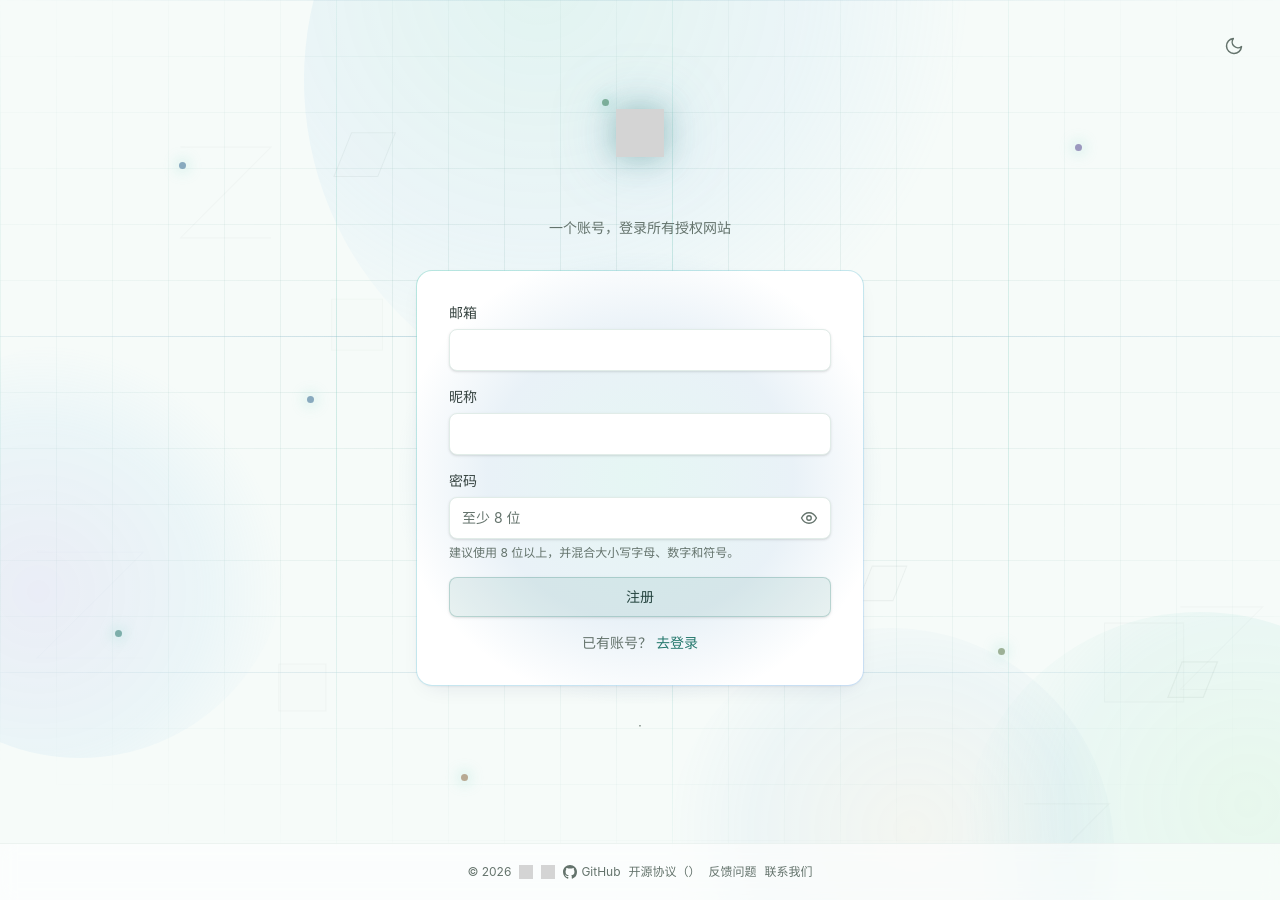
Test case: RegisterPage › 注册成功跳转登录页时保留 next 回跳参数
Type "a@example.com" into the field labelled "邮箱" at (640, 350), box [449,329,831,371]
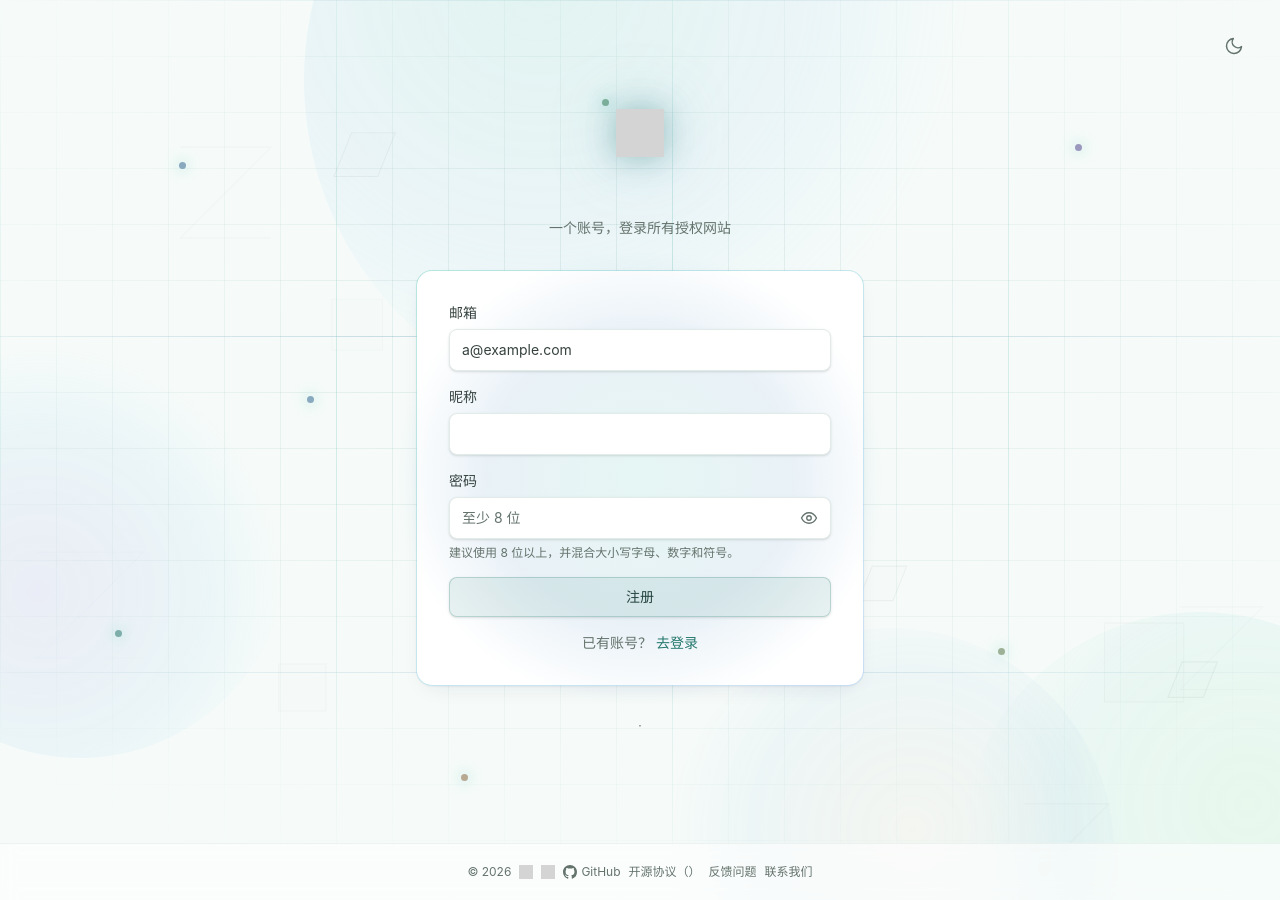
Type "Alice" into the field labelled "昵称" at (640, 434), box [449,413,831,455]
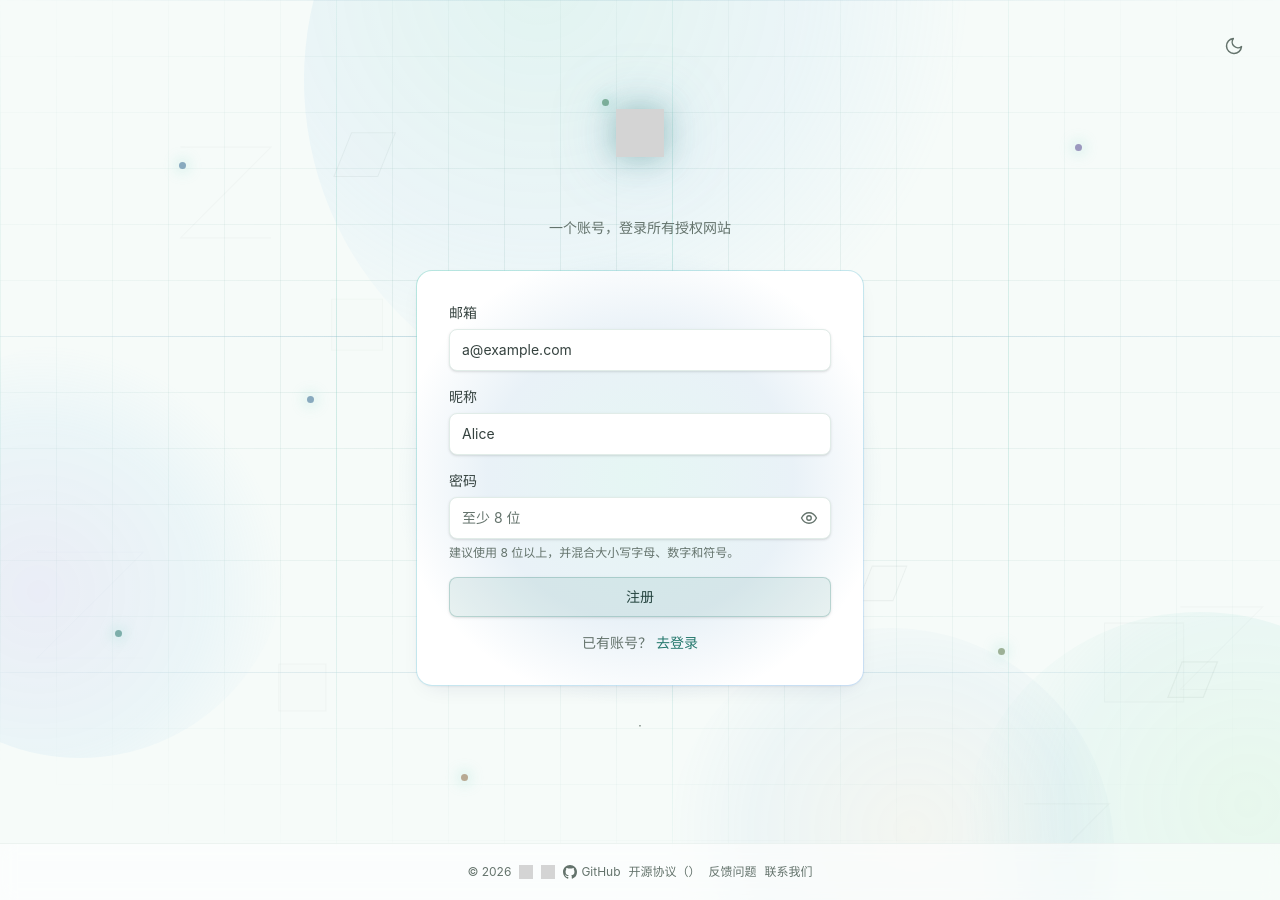
Type "password123" into the password field labelled "密码" at (640, 518), box [449,497,831,539]
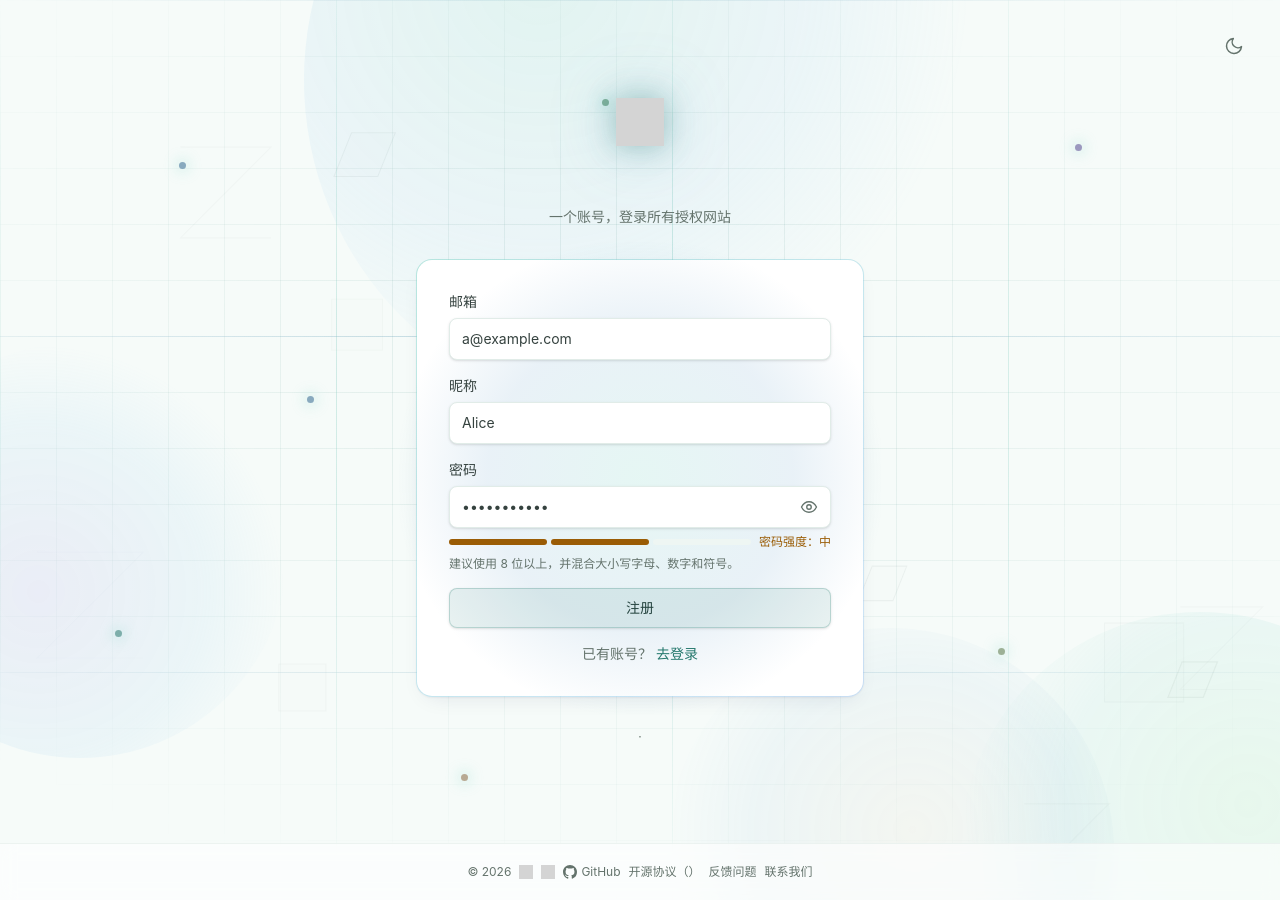
Click the button "注册" at (640, 608), box [449,588,831,628]
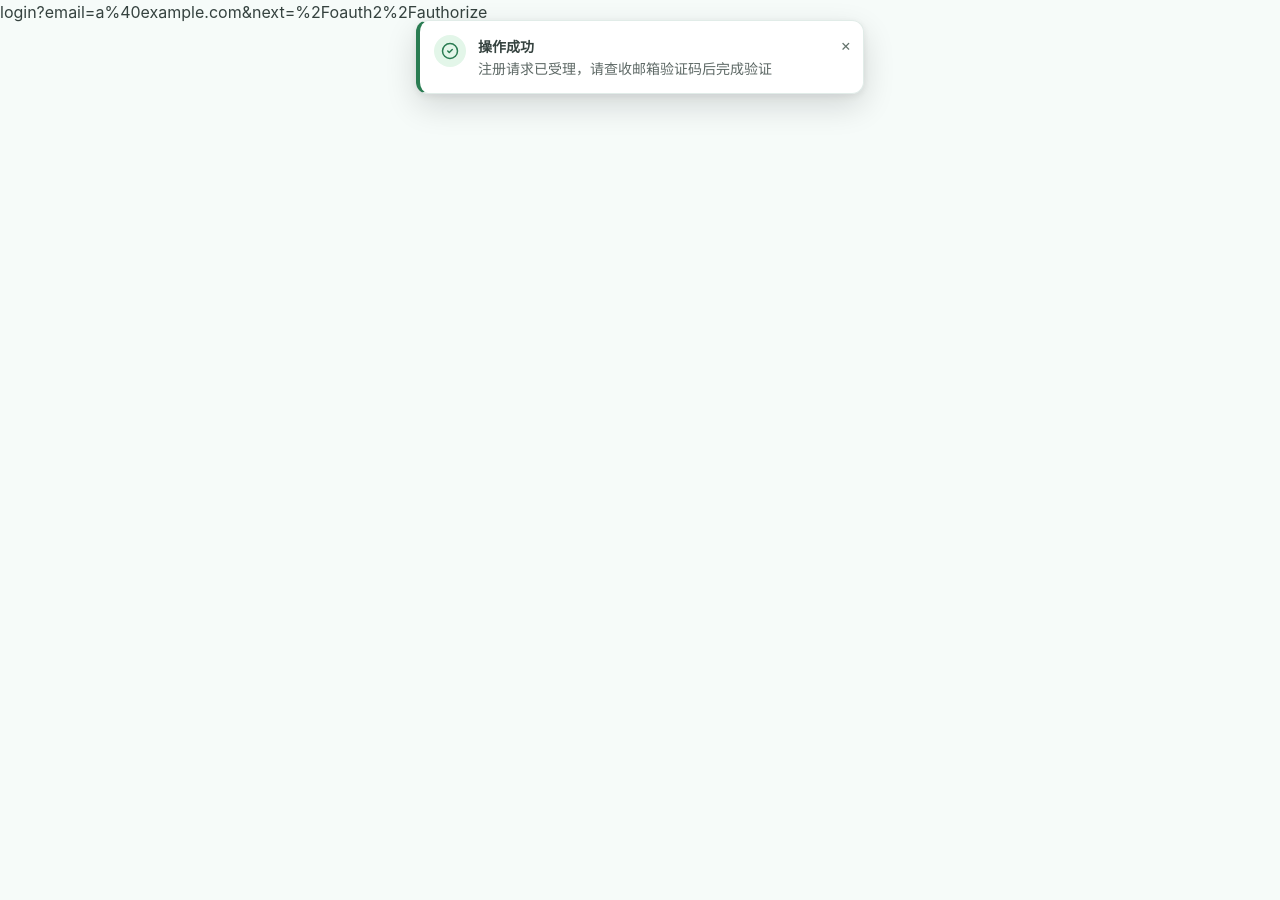
Check: the text "login?email=a%40example.com&next=%2Foauth2%2Fauthorize" is shown, box [0,2,487,22]
